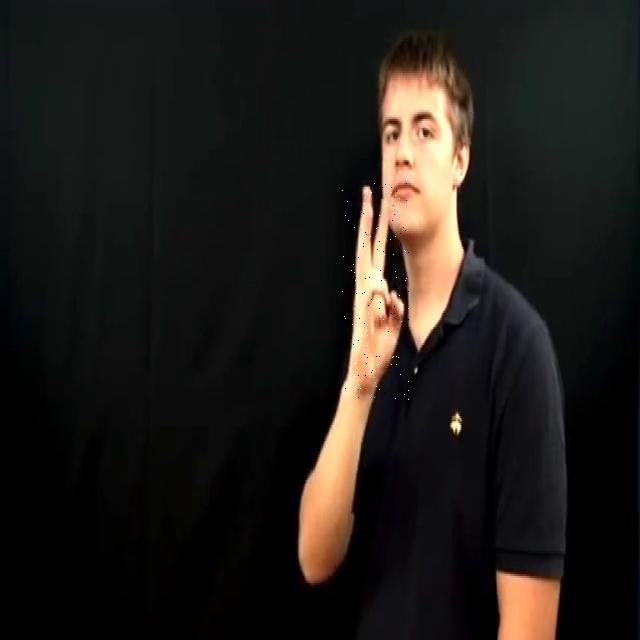water: (342, 178, 409, 400)
